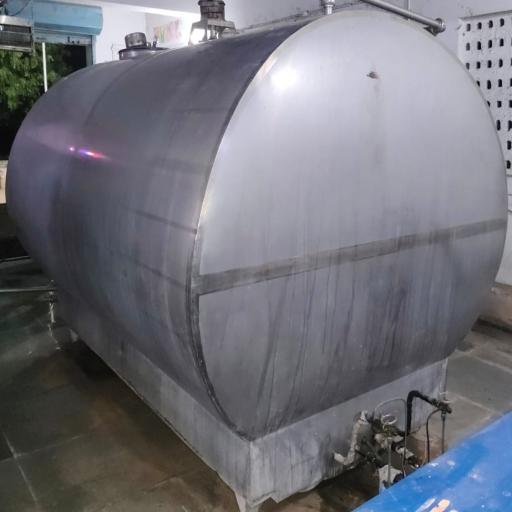silo: (6, 9, 509, 504)
